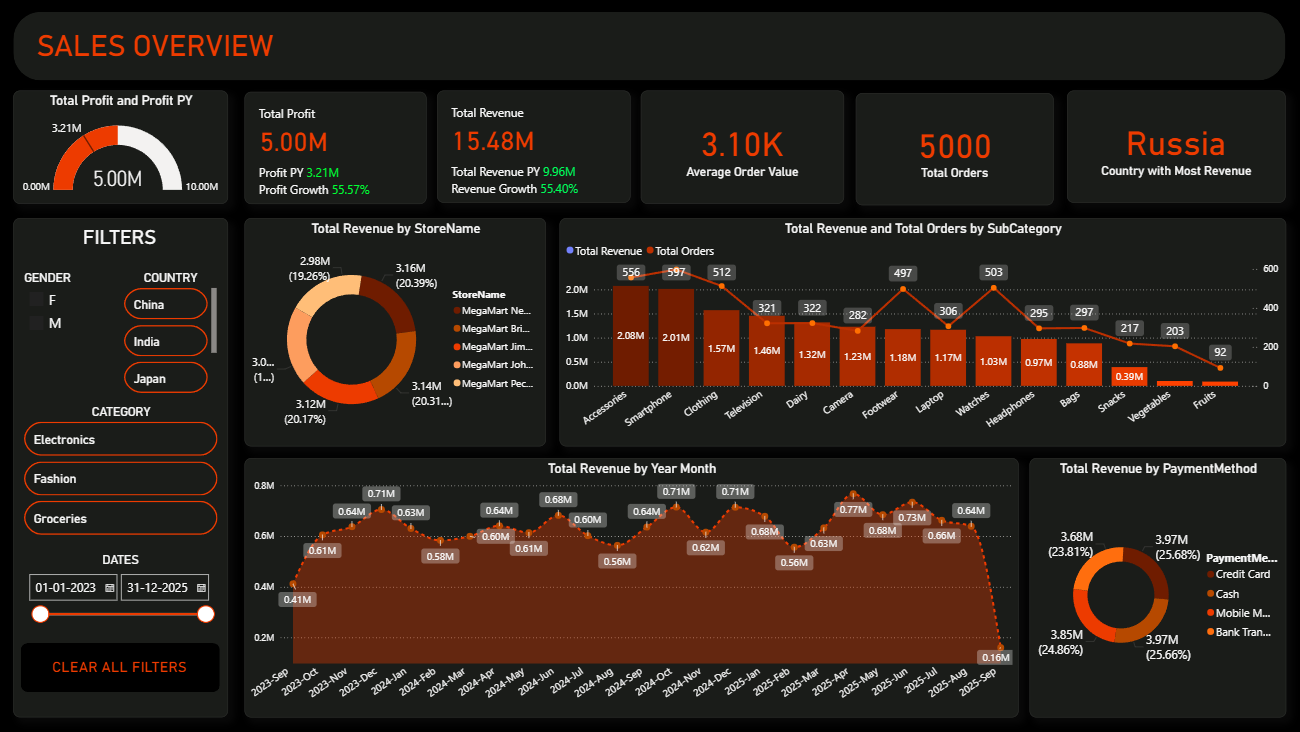

This screenshot's page, from the dashboard's own definition file:
{"tool":"powerbi","page":{"name":"Sales Overview","canvas":[1920,1080],"ordinal":0},"visuals":[{"type":"lineChart","fields":{"Y":["Measures Table.Total Revenue"],"Category":["Dates.Year Month"]},"box":[362.3,675.1,1136.2,380.8],"z":0},{"type":"cardVisual","fields":{"Data":["Measures Table.Total Revenue"]},"box":[646.3,135.8,284,164.7],"z":1000},{"type":"cardVisual","fields":{"Data":["Measures Table.Total Profit"]},"box":[362.3,137.9,267.6,164.7],"z":2000},{"type":"card","fields":{"Values":["Measures Table.Total Orders"]},"box":[1259.7,140,290.2,164.7],"z":3000},{"type":"card","fields":{"Values":["Measures Table.Average Order Value"]},"box":[944.8,135.8,298.5,166.7],"z":4000},{"type":"gauge","fields":{"Y":["Measures Table.Total Profit"],"TargetValue":["Measures Table.Profir PY"]},"box":[24.7,135.8,314.9,166.7],"z":5000},{"type":"donutChart","fields":{"Y":["Measures Table.Total Revenue"],"Category":["transactions.PaymentMethod"]},"box":[1514.9,675.1,376.7,380.8],"z":6000},{"type":"lineStackedColumnComboChart","fields":{"Category":["products.SubCategory","products.Category"],"Y":["Measures Table.Total Revenue"],"Y2":["Measures Table.Total Orders"]},"box":[825.4,323.2,1066.2,335.5],"z":7000},{"type":"donutChart","fields":{"Category":["stores.StoreName"],"Y":["Measures Table.Total Revenue"]},"box":[362.3,323.2,442.5,335.5],"z":8000},{"type":"shape","box":[24.7,20.6,1866.9,100.9],"z":9000},{"type":"card","fields":{"Values":["Min(stores.Country)"]},"box":[1570.5,135.8,321.1,164.7],"z":10000},{"type":"shape","box":[24.7,323.2,314.9,732.8],"z":10000,"group":"g1"},{"type":"group","id":"g1","title":"Group 1","box":[24.7,323.2,314.9,732.8],"z":11000},{"type":"textbox","box":[53.5,41.2,504.3,59.7],"z":12000},{"type":"advancedSlicerVisual","title":"COUNTRY","fields":{"Values":["stores.Country"]},"box":[183.2,399.4,146.1,187.3],"z":12000,"group":"g1"},{"type":"advancedSlicerVisual","title":"CATEGORY","fields":{"Values":["products.Category"]},"box":[35,597,294.3,199.7],"z":13000,"group":"g1"},{"type":"slicer","title":"GENDER","fields":{"Values":["customers.Gender"]},"box":[35,399.4,148.2,160.5],"z":14000,"group":"g1"},{"type":"slicer","title":"DATES","fields":{"Values":["Dates.Date"]},"box":[35,815.1,292.3,117.3],"z":15000,"group":"g1"},{"type":"shape","title":"CLEAR ALL FILTER","box":[35,946.9,292.3,72],"z":16000,"group":"g1"},{"type":"textbox","box":[53.5,965.4,253.2,35],"z":17000,"group":"g1"},{"type":"textbox","box":[39.1,328,282,43.2],"z":18000,"group":"g1"}]}

Visuals, with their boxes in screenshot pixels (x1, y1, x2, y2), scaled from the page's 1920x1080 canvas onto the 1300x732 screenshot:
lineChart - Measures Table.Total Revenue x Dates.Year Month: Rect(245, 458, 1015, 716)
cardVisual - Measures Table.Total Revenue: Rect(438, 92, 630, 204)
cardVisual - Measures Table.Total Profit: Rect(245, 93, 426, 205)
card - Measures Table.Total Orders: Rect(853, 95, 1049, 207)
card - Measures Table.Average Order Value: Rect(640, 92, 842, 205)
gauge - Measures Table.Total Profit x Measures Table.Profir PY: Rect(17, 92, 230, 205)
donutChart - Measures Table.Total Revenue x transactions.PaymentMethod: Rect(1026, 458, 1281, 716)
lineStackedColumnComboChart - products.SubCategory x products.Category: Rect(559, 219, 1281, 446)
donutChart - stores.StoreName x Measures Table.Total Revenue: Rect(245, 219, 545, 446)
shape: Rect(17, 14, 1281, 82)
card - Min(stores.Country): Rect(1063, 92, 1281, 204)
shape: Rect(17, 219, 230, 716)
"Group 1" group: Rect(17, 219, 230, 716)
textbox: Rect(36, 28, 378, 68)
"COUNTRY" advancedSlicerVisual: Rect(124, 271, 223, 398)
"CATEGORY" advancedSlicerVisual: Rect(24, 405, 223, 540)
"GENDER" slicer: Rect(24, 271, 124, 379)
"DATES" slicer: Rect(24, 552, 222, 632)
"CLEAR ALL FILTER" shape: Rect(24, 642, 222, 691)
textbox: Rect(36, 654, 208, 678)
textbox: Rect(26, 222, 217, 252)
